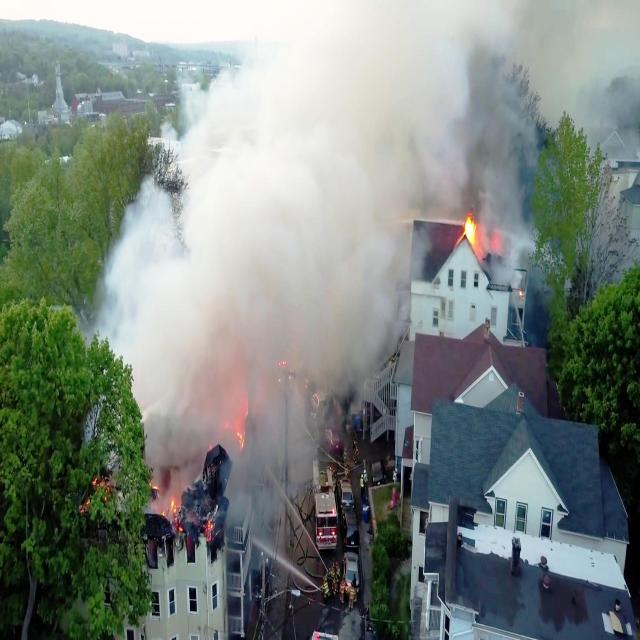Fire: (252, 416, 336, 542), (143, 482, 215, 562), (80, 468, 113, 522), (237, 420, 250, 462)
Smoke: (167, 0, 640, 210), (90, 216, 432, 414), (140, 419, 235, 481), (462, 214, 478, 252)
